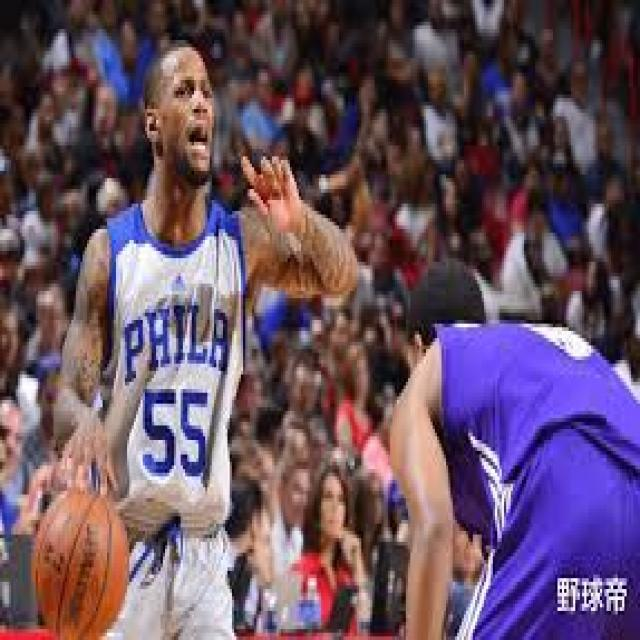rim: (33, 491, 125, 636)
